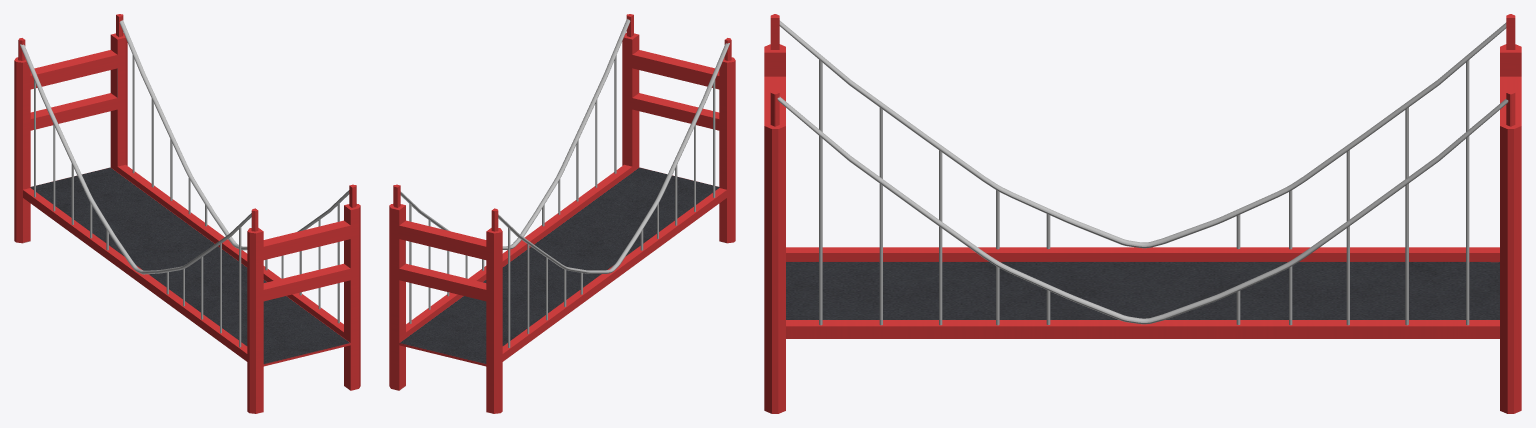
File: Bridge.fbx
3 renders of one model, left to right at view 1: azimuth 30°, elevation 25°; view 2: azimuth 150°, elevation 25°; view 3: azimuth 270°, elevation 25°, orthographic. The views are drawn at different scales.
Parts seen in each view (by area): view 1: Bridge; view 2: Bridge; view 3: Bridge.
Part boxes in pixels (x1,y1,x2,y2): Bridge: (14,14,360,413); Bridge: (389,14,735,413); Bridge: (764,14,1521,413).
Size of the model in its own units: 2619 by 4523 by 9790.
Materials: 1 (1 with a texture image).
